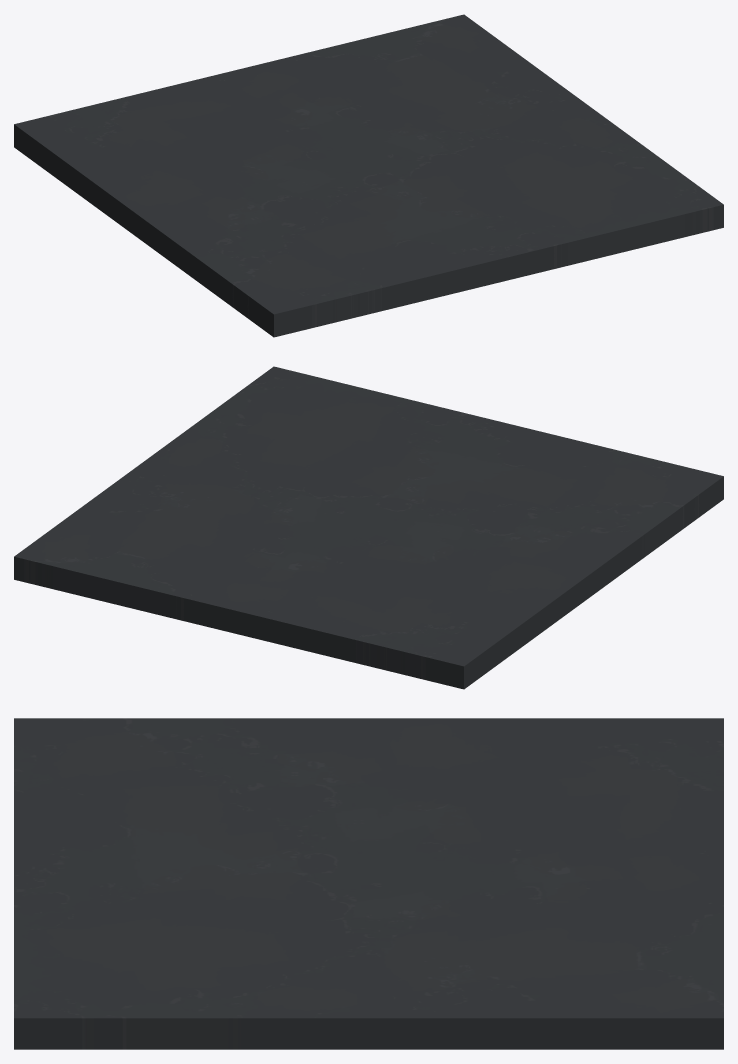
The model's file is Env_AshFalt_01.fbx.
The picture shows the model from 3 angles, top to bottom: view 1: azimuth 30°, elevation 25°; view 2: azimuth 150°, elevation 25°; view 3: azimuth 270°, elevation 25°; orthographic projection. The views are drawn at different scales.
Visible parts, largest first — view 1: Env_AshFalt_01; view 2: Env_AshFalt_01; view 3: Env_AshFalt_01.
Boxes of the visible parts, box(x1,y1,x2,y2) form: Env_AshFalt_01: box(14, 14, 723, 337); Env_AshFalt_01: box(14, 366, 723, 689); Env_AshFalt_01: box(14, 718, 723, 1049).
Size of the model in its own units: 3 by 0.1469 by 3.
